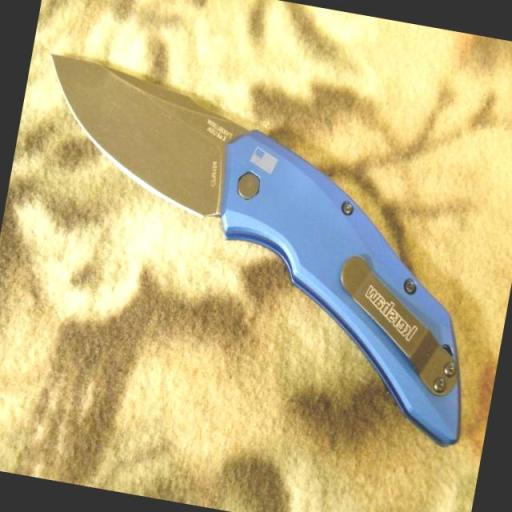knife: (17, 44, 266, 224)
